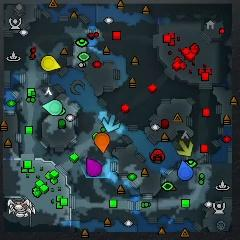p1: (177, 160, 193, 181)
p2: (43, 99, 63, 116)
p3: (86, 157, 102, 177)
p4: (41, 55, 62, 72)
p5: (94, 133, 110, 154)
x2: (177, 139, 193, 156)
x3: (103, 114, 120, 133)
